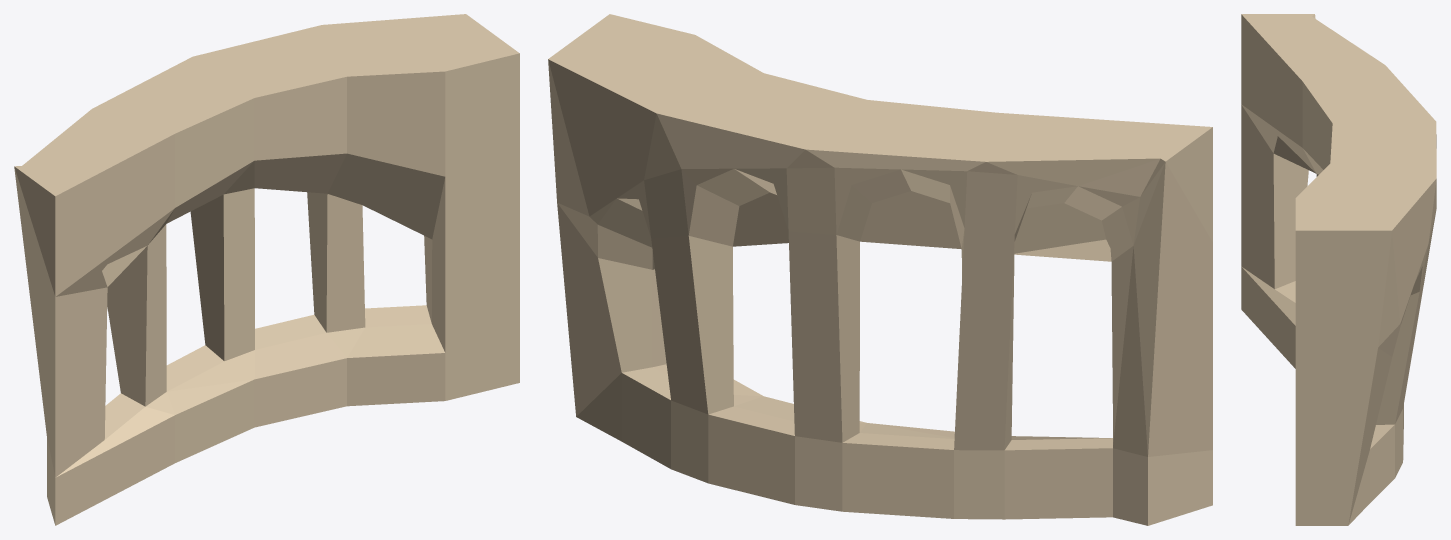
File: LightSandStoneWallLargeCurvedwOpenings1.fbx
3 renders of one model, left to right at view 1: azimuth 30°, elevation 25°; view 2: azimuth 150°, elevation 25°; view 3: azimuth 270°, elevation 25°, orthographic. The views are drawn at different scales.
Parts seen in each view (by area): view 1: LightSandStoneWallLargeCurvedwOpenings1; view 2: LightSandStoneWallLargeCurvedwOpenings1; view 3: LightSandStoneWallLargeCurvedwOpenings1.
Boxes of the visible parts, x1,y1,x2,y2 form: LightSandStoneWallLargeCurvedwOpenings1: (14,14,519,525); LightSandStoneWallLargeCurvedwOpenings1: (548,14,1212,525); LightSandStoneWallLargeCurvedwOpenings1: (1241,14,1436,525).
Bounding box in the file's own units: 1100 × 700 × 420.
1 material, 1 textured.
